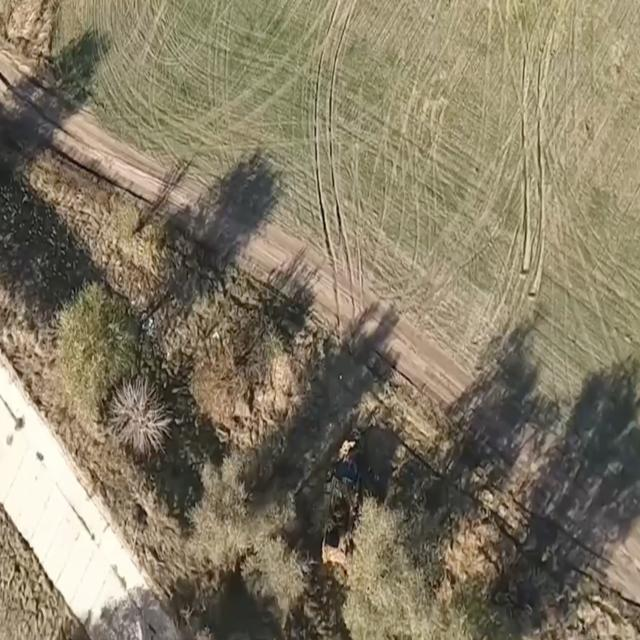vehicle: (324, 454, 358, 578)
